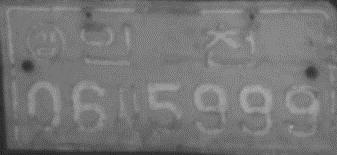0: (25, 79, 63, 134)
5: (146, 80, 181, 136)
6: (71, 79, 106, 135)
9: (238, 83, 274, 139), (284, 84, 319, 138), (193, 83, 228, 136)
사: (114, 85, 142, 128)
영: (27, 20, 65, 63)
인천_D: (79, 21, 257, 72)
